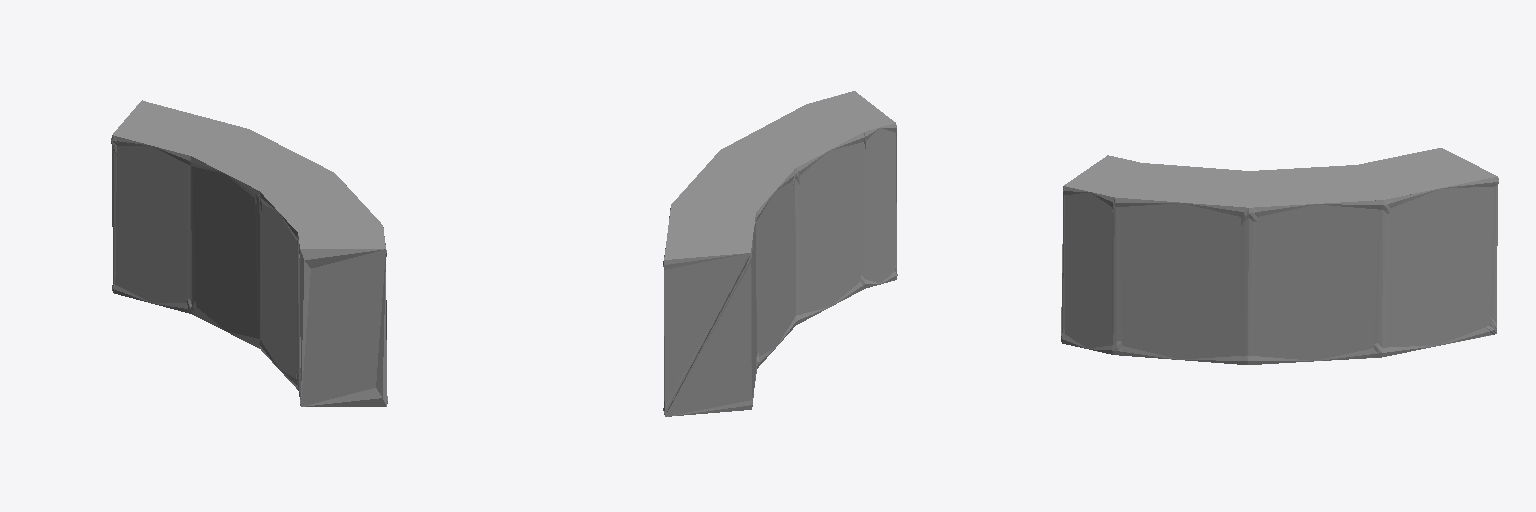
The picture shows the model from 3 angles: view 1: azimuth 30°, elevation 25°; view 2: azimuth 150°, elevation 25°; view 3: azimuth 270°, elevation 25°; orthographic projection.
Parts seen in each view (by area): view 1: group_0_undefined.001; view 2: group_0_undefined.001; view 3: group_0_undefined.001.
Boxes of the visible parts, x1=… form: group_0_undefined.001: x1=111, y1=100, x2=387, y2=406; group_0_undefined.001: x1=663, y1=91, x2=897, y2=416; group_0_undefined.001: x1=1061, y1=148, x2=1498, y2=364.
Size of the model in its own units: 1.23 by 1.48 by 3.64.